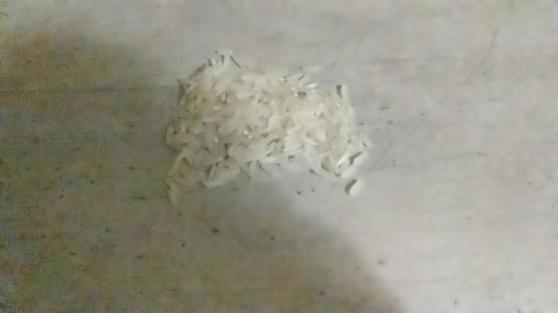rice: (142, 42, 387, 223)
